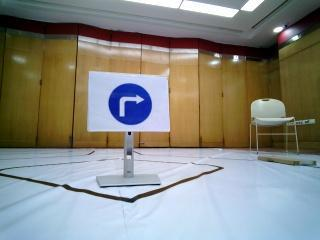right: (93, 79, 168, 133)
